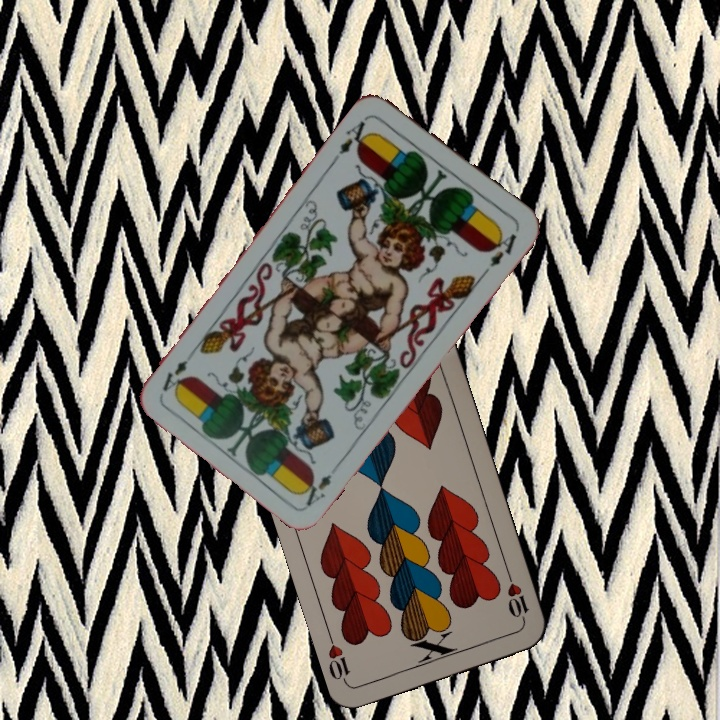EA: (297, 458, 343, 509), (334, 113, 375, 157)
H10: (503, 568, 531, 626)
